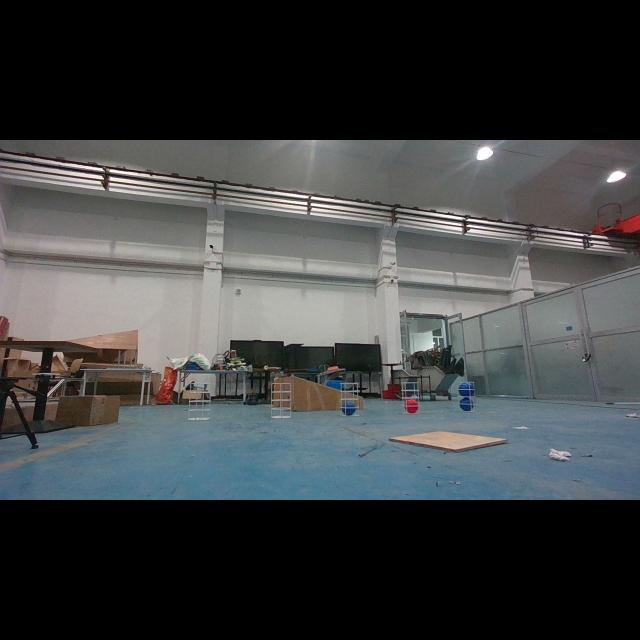B: (339, 400, 358, 416), (458, 384, 477, 398), (458, 398, 476, 410)
R: (404, 400, 420, 412)
S: (186, 380, 212, 424), (268, 381, 294, 421), (338, 380, 362, 420), (454, 381, 481, 414), (400, 380, 422, 416)
